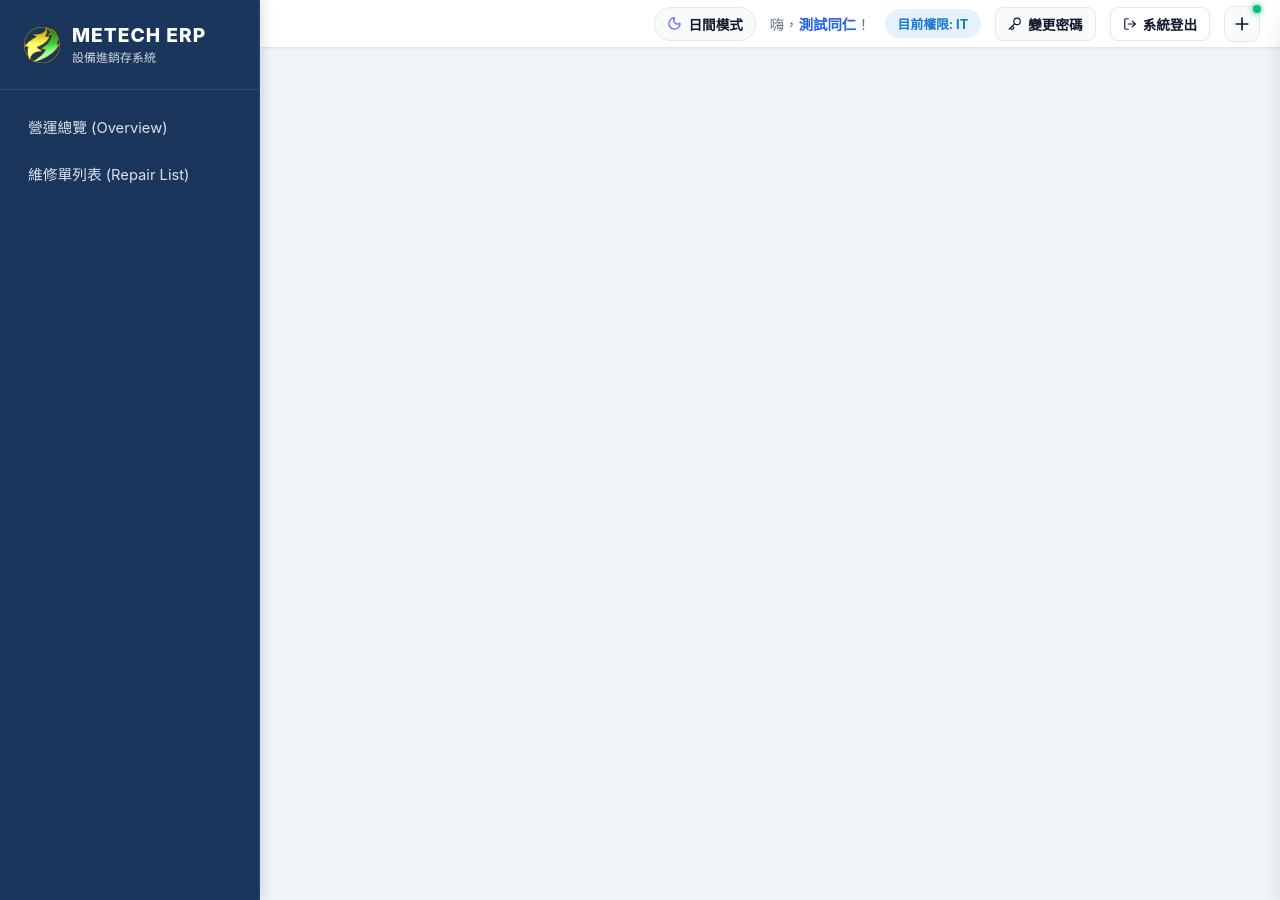
使用者變更密碼功能 (Change Password) 測試 › 新密碼與確認密碼不一致時應提示錯誤且不送出請求
This screenshot has width=1280, height=900.
Step 1. Click the button "變更密碼" → (1046, 24), box [995,6,1096,40]
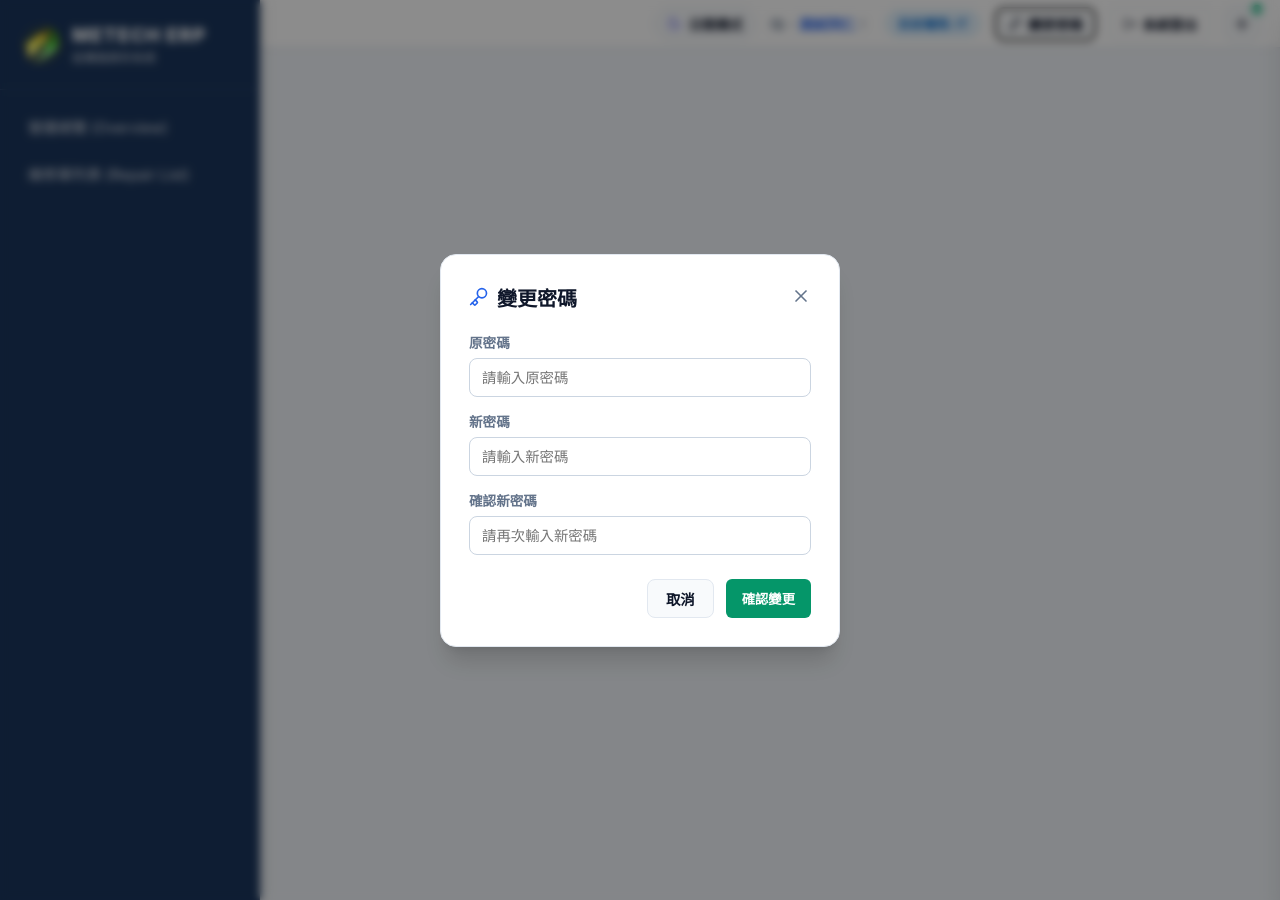
Step 2. Type "oldPassword123" into the password field with placeholder "請輸入原密碼" → (640, 377), box [469,358,811,396]
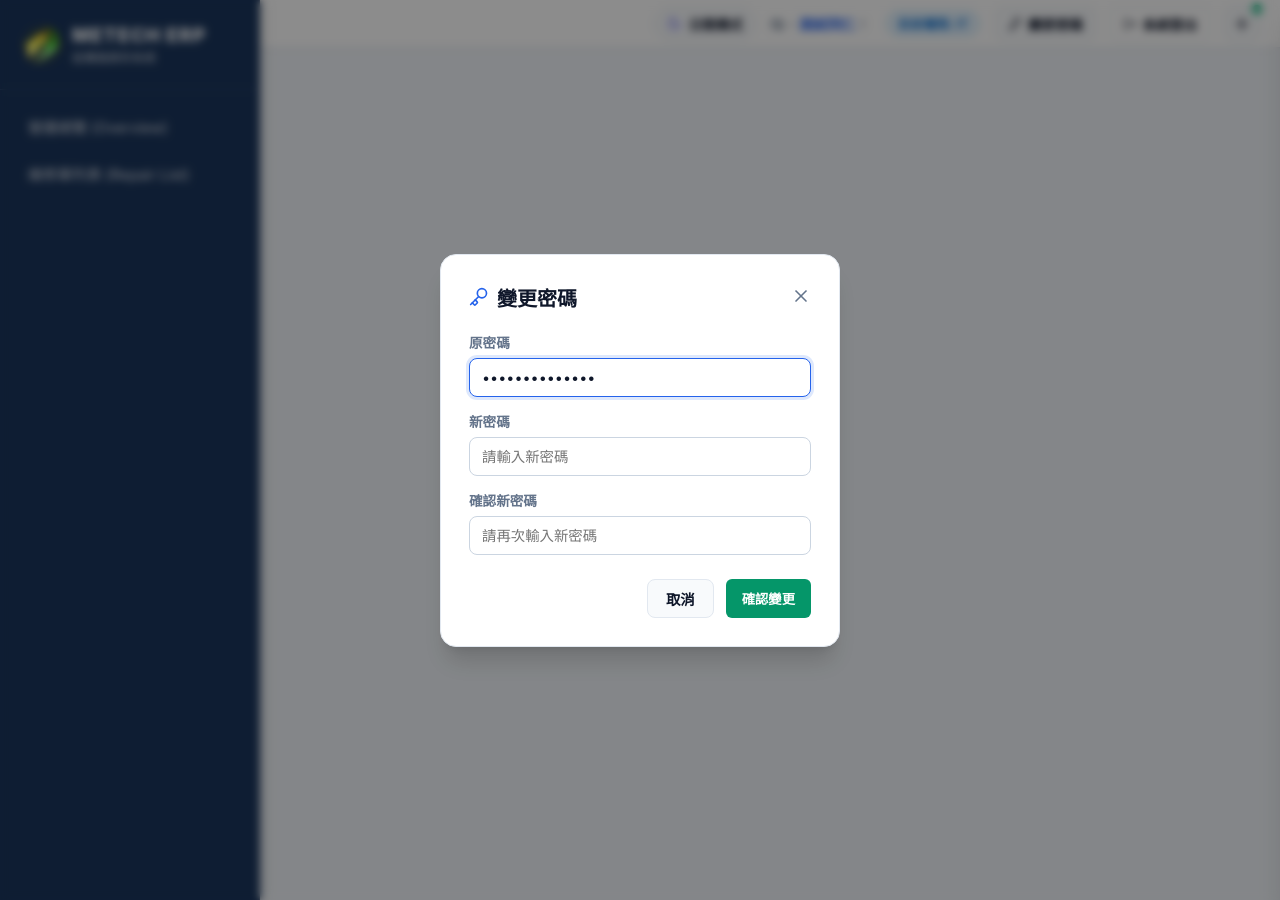
Step 3. Type "passA" into the password field with placeholder "請輸入新密碼" → (640, 456), box [469,436,811,476]
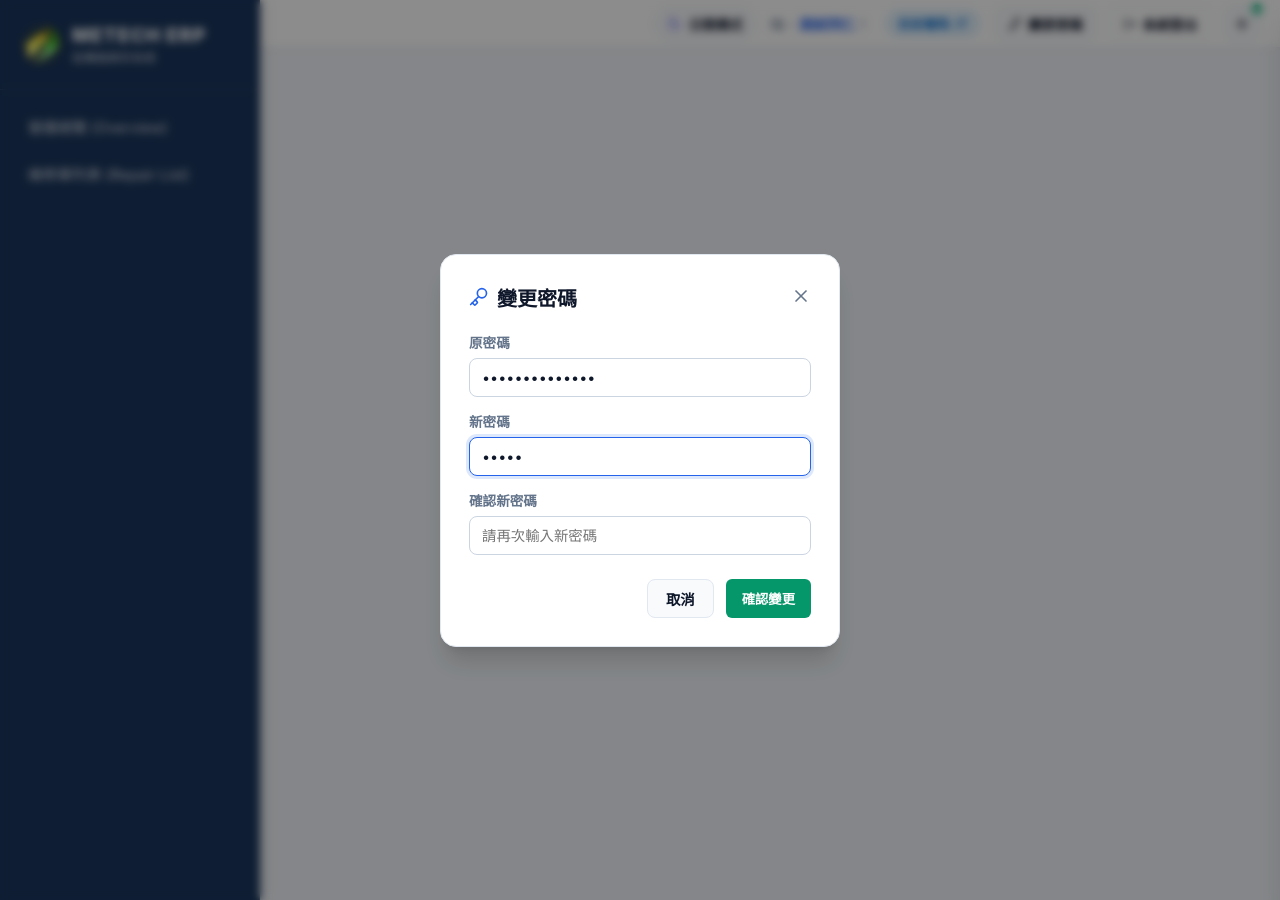
Step 4. Type "passB" into the password field with placeholder "請再次輸入新密碼" → (640, 535), box [469,516,811,554]
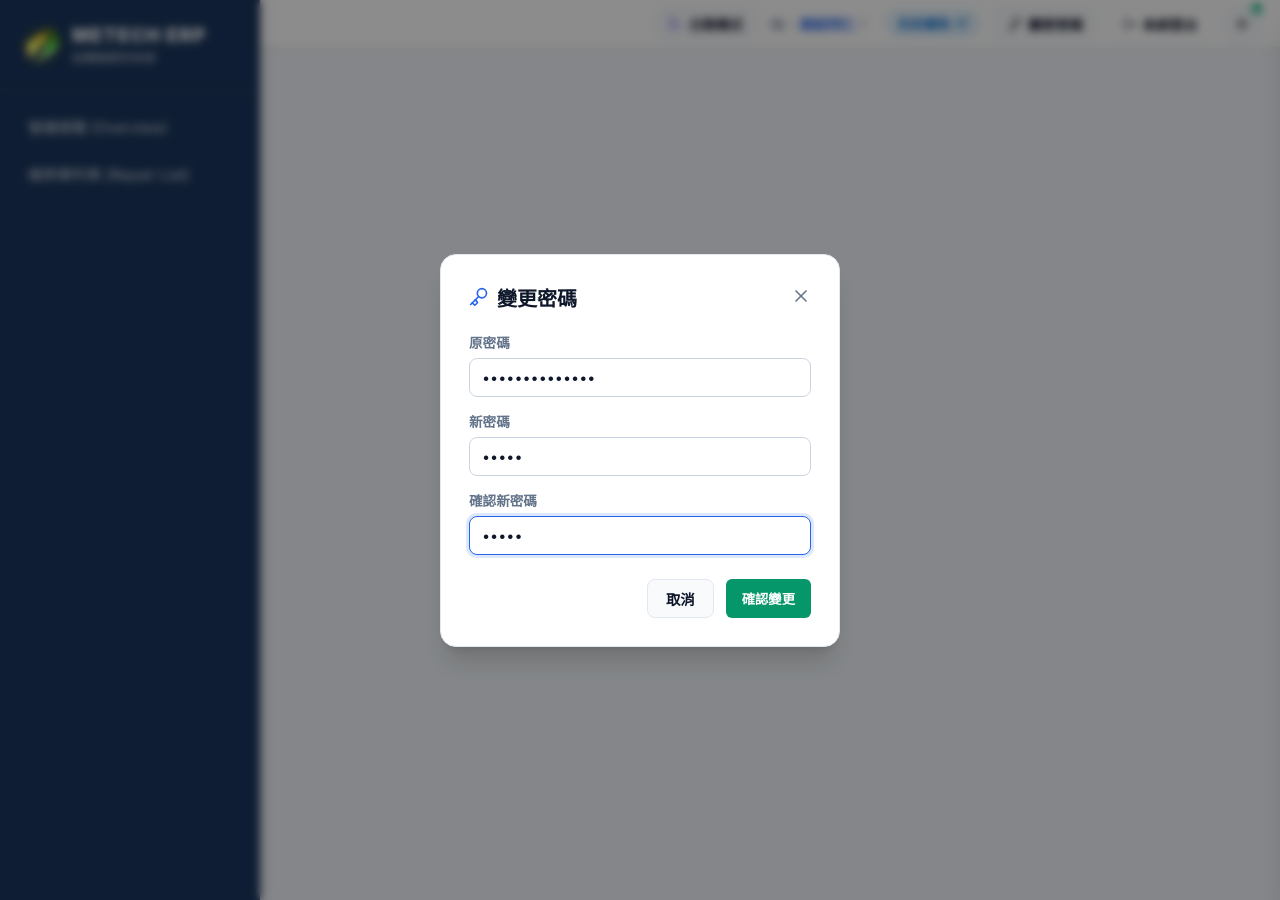
Step 5. Click the button "確認變更" → (768, 598), box [726,578,811,618]
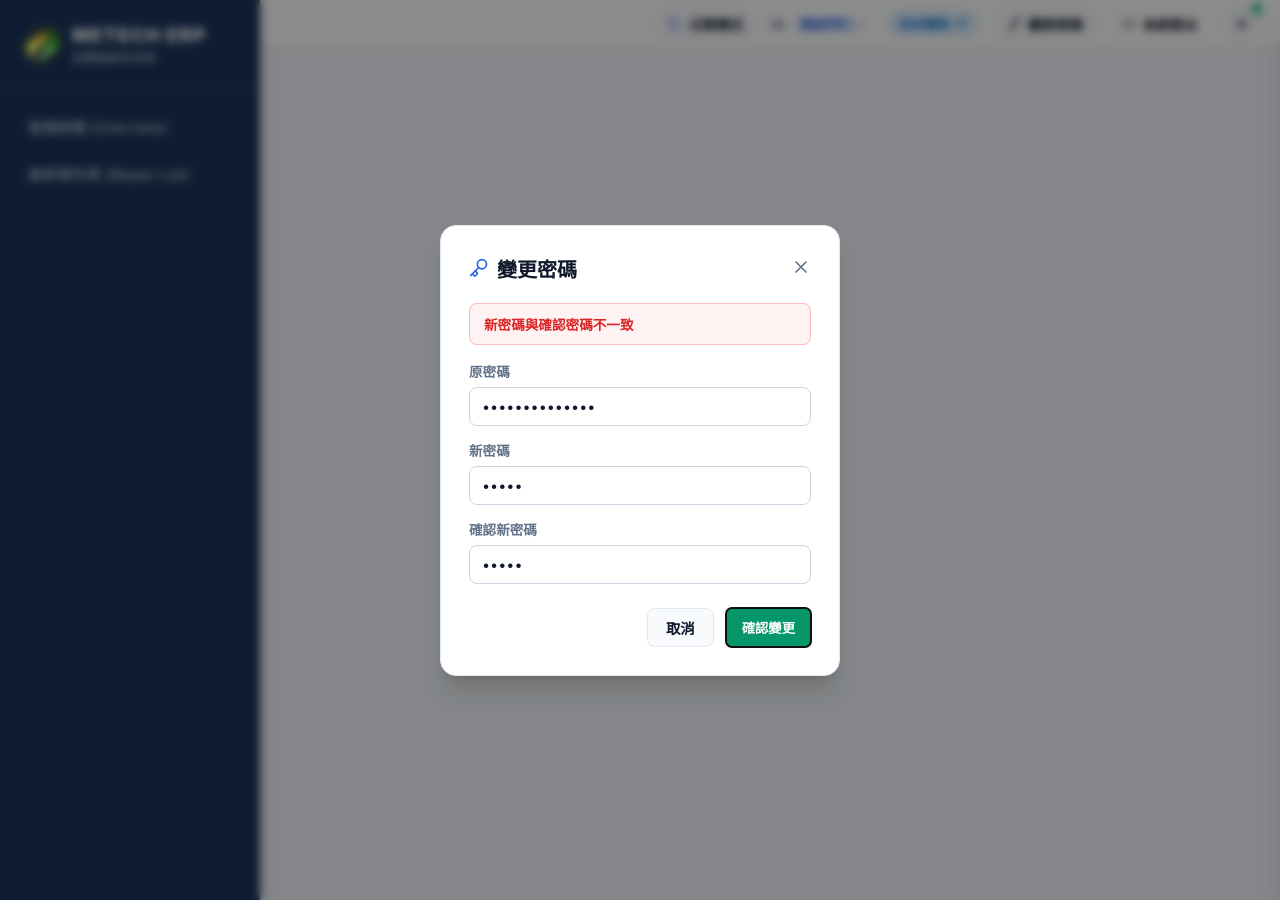
Now the text "新密碼與確認密碼不一致" is shown, box [469,302,811,344]
